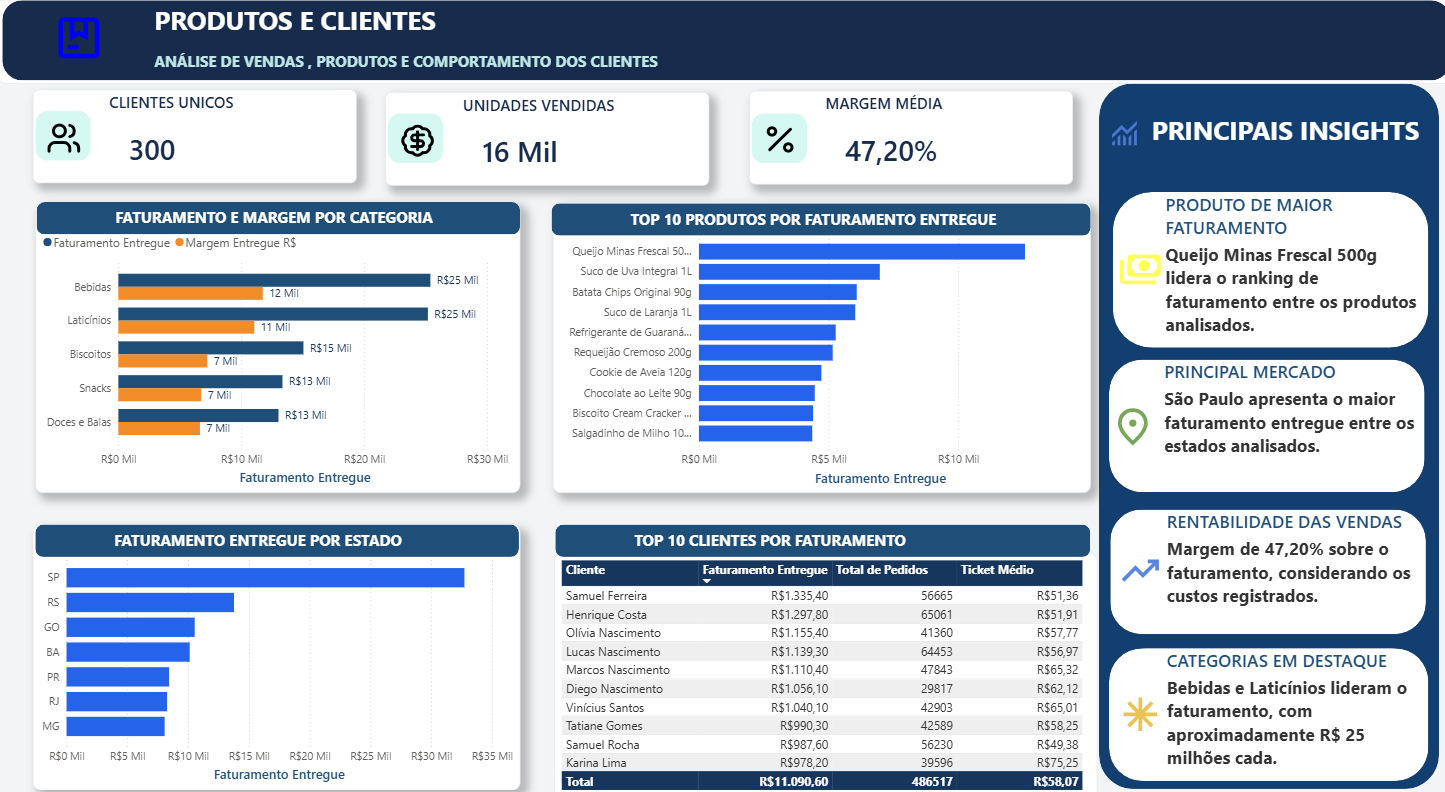

The dashboard page shown, as its layout file describes it:
{"tool":"powerbi","page":{"name":"PRODUTOS E CLIENTES","canvas":[1800,1000],"ordinal":2},"visuals":[{"type":"shape","box":[1360.6,107.2,420.6,873],"z":1000},{"type":"clusteredBarChart","title":"FATURAMENTO E MARGEM PO CATEGORIA","fields":{"Category":["vw_VendasDetalhadas.categoria"],"Y":["vw_VendasDetalhadas.Faturamento Entregue","vw_VendasDetalhadas.Margem Entregue R$"]},"box":[45.2,253,599.9,360.3],"z":2000},{"type":"clusteredBarChart","title":"TOP 10 PRODUTOS POR FATURAMENTO ENTREGUE","fields":{"Category":["vw_VendasDetalhadas.produto"],"Y":["vw_VendasDetalhadas.Faturamento Entregue"]},"box":[685.3,253,665.2,360.3],"z":3000},{"type":"clusteredBarChart","fields":{"Category":["vw_VendasDetalhadas.estado"],"Y":["vw_VendasDetalhadas.Faturamento Entregue"]},"box":[41.9,651.8,603.2,328.4],"z":4000},{"type":"tableEx","fields":{"Values":["vw_VendasDetalhadas.cliente","vw_VendasDetalhadas.Faturamento Entregue","Sum(vw_VendasDetalhadas.pedido_id)","vw_ResumoCampanhas.Ticket Medio Entregue"]},"box":[687,688.7,671.9,305],"z":5000},{"type":"shape","box":[0,0,1799.6,107.2],"z":6000},{"type":"textbox","box":[187.7,1.7,403.8,60.3],"z":7000},{"type":"textbox","box":[187.7,62,646.8,43.6],"z":8000},{"type":"shape","box":[41.6,114.3,400.5,115.6],"z":9000},{"type":"cardVisual","title":"CLIENTES UNICOS","fields":{"Data":["vw_ResumoCampanhas.Clientes Únicos"]},"box":[132,117.6,254.7,112.3],"z":10000},{"type":"shape","box":[44.9,141.1,68.7,62],"z":11000},{"type":"image","box":[51.6,152.8,58.6,43.6],"z":12000},{"type":"shape","box":[477.8,117.6,400.5,115.6],"z":13000},{"type":"cardVisual","title":"UNIDADES VENDIDAS","fields":{"Data":["vw_ResumoCampanhas.Unidades Vendidas"]},"box":[568.3,120.9,254.7,112.3],"z":14000},{"type":"shape","box":[481.2,144.4,68.7,62],"z":15000},{"type":"image","box":[487.9,156.1,58.6,43.6],"z":16000},{"type":"shape","box":[926.9,116.2,400.5,115.6],"z":17000},{"type":"cardVisual","title":"MARGEM MÉDIA","fields":{"Data":["vw_ResumoCampanhas.Margem %"]},"box":[1017.4,119.6,254.7,112.3],"z":18000},{"type":"shape","box":[930.2,143,68.7,62],"z":19000},{"type":"image","box":[936.9,154.8,58.6,43.6],"z":20000},{"type":"textbox","box":[1420.9,137.4,346.9,62],"z":21000},{"type":"image","box":[1363.9,149.1,57,40.2],"z":22000},{"type":"shape","box":[46.9,253,598.2,40.2],"z":23000},{"type":"textbox","box":[139.1,254.7,410.5,38.5],"z":24000},{"type":"shape","box":[44.9,651.8,598.2,40.2],"z":25000},{"type":"textbox","box":[137,653.4,410.5,38.5],"z":26000},{"type":"shape","box":[688.7,651.8,661.9,40.2],"z":27000},{"type":"textbox","box":[780.4,653.4,410.5,38.5],"z":28000},{"type":"shape","box":[683.6,254.7,666.9,40.2],"z":29000},{"type":"textbox","box":[775.8,256.4,496,38.5],"z":30000},{"type":"shape","box":[1377.4,241.3,390.4,192.7],"z":31000},{"type":"textbox","title":"PRODUTO DE MAIOR FATURAMENTO","box":[1437.7,241.3,328.4,192.7],"z":32000},{"type":"shape","box":[1372.3,449.1,390.4,164.2],"z":33000},{"type":"textbox","title":"PRINCIPAL MERCADO","box":[1436,449.1,328.4,140.8],"z":34000},{"type":"image","box":[1374,310,73.7,55.3],"z":35000},{"type":"shape","box":[1374,633.4,390.4,154.2],"z":36000},{"type":"textbox","title":"RENTABILIDADE DAS VENDAS","box":[1439.4,633.4,328.4,154.2],"z":37000},{"type":"image","box":[1365.6,504.4,73.7,55.3],"z":38000},{"type":"shape","box":[1372.9,806.3,390.4,164.2],"z":39000},{"type":"image","box":[1374,682,73.7,55.3],"z":41000},{"type":"image","box":[58.6,16.8,80.4,67],"z":43000},{"type":"shape","box":[1377.4,806,390.4,164.2],"z":43500},{"type":"textbox","title":"CATEGORIAS EM DESTAQUE","box":[1439.4,806,328.4,164.2],"z":44000},{"type":"image","box":[1374,859.6,73.7,55.3],"z":44500}]}

Visuals, with their boxes in screenshot pixels (x1, y1, x2, y2), scaled from the page's 1800x1000 canvas onto the 1445x792 screenshot:
shape: 1092, 85, 1430, 776
"FATURAMENTO E MARGEM PO CATEGORIA" clusteredBarChart: 36, 200, 518, 486
"TOP 10 PRODUTOS POR FATURAMENTO ENTREGUE" clusteredBarChart: 550, 200, 1084, 486
clusteredBarChart - vw_VendasDetalhadas.estado x vw_VendasDetalhadas.Faturamento Entregue: 34, 516, 518, 776
tableEx - vw_VendasDetalhadas.cliente x vw_VendasDetalhadas.Faturamento Entregue: 552, 545, 1091, 787
shape: 0, 0, 1444, 85
textbox: 151, 1, 475, 49
textbox: 151, 49, 670, 84
shape: 33, 91, 355, 182
"CLIENTES UNICOS" cardVisual: 106, 93, 310, 182
shape: 36, 112, 91, 161
image: 41, 121, 88, 156
shape: 384, 93, 705, 185
"UNIDADES VENDIDAS" cardVisual: 456, 96, 661, 185
shape: 386, 114, 441, 163
image: 392, 124, 439, 158
shape: 744, 92, 1066, 184
"MARGEM MÉDIA" cardVisual: 817, 95, 1021, 184
shape: 747, 113, 802, 162
image: 752, 123, 799, 157
textbox: 1141, 109, 1419, 158
image: 1095, 118, 1141, 150
shape: 38, 200, 518, 232
textbox: 112, 202, 441, 232
shape: 36, 516, 516, 548
textbox: 110, 517, 440, 548
shape: 553, 516, 1084, 548
textbox: 626, 517, 956, 548
shape: 549, 202, 1084, 234
textbox: 623, 203, 1021, 234
shape: 1106, 191, 1419, 344
"PRODUTO DE MAIOR FATURAMENTO" textbox: 1154, 191, 1418, 344
shape: 1102, 356, 1415, 486
"PRINCIPAL MERCADO" textbox: 1153, 356, 1416, 467
image: 1103, 246, 1162, 289
shape: 1103, 502, 1416, 624
"RENTABILIDADE DAS VENDAS" textbox: 1156, 502, 1419, 624
image: 1096, 399, 1155, 443
shape: 1102, 639, 1416, 769
image: 1103, 540, 1162, 584
image: 47, 13, 112, 66
shape: 1106, 638, 1419, 768
"CATEGORIAS EM DESTAQUE" textbox: 1156, 638, 1419, 768
image: 1103, 681, 1162, 725
